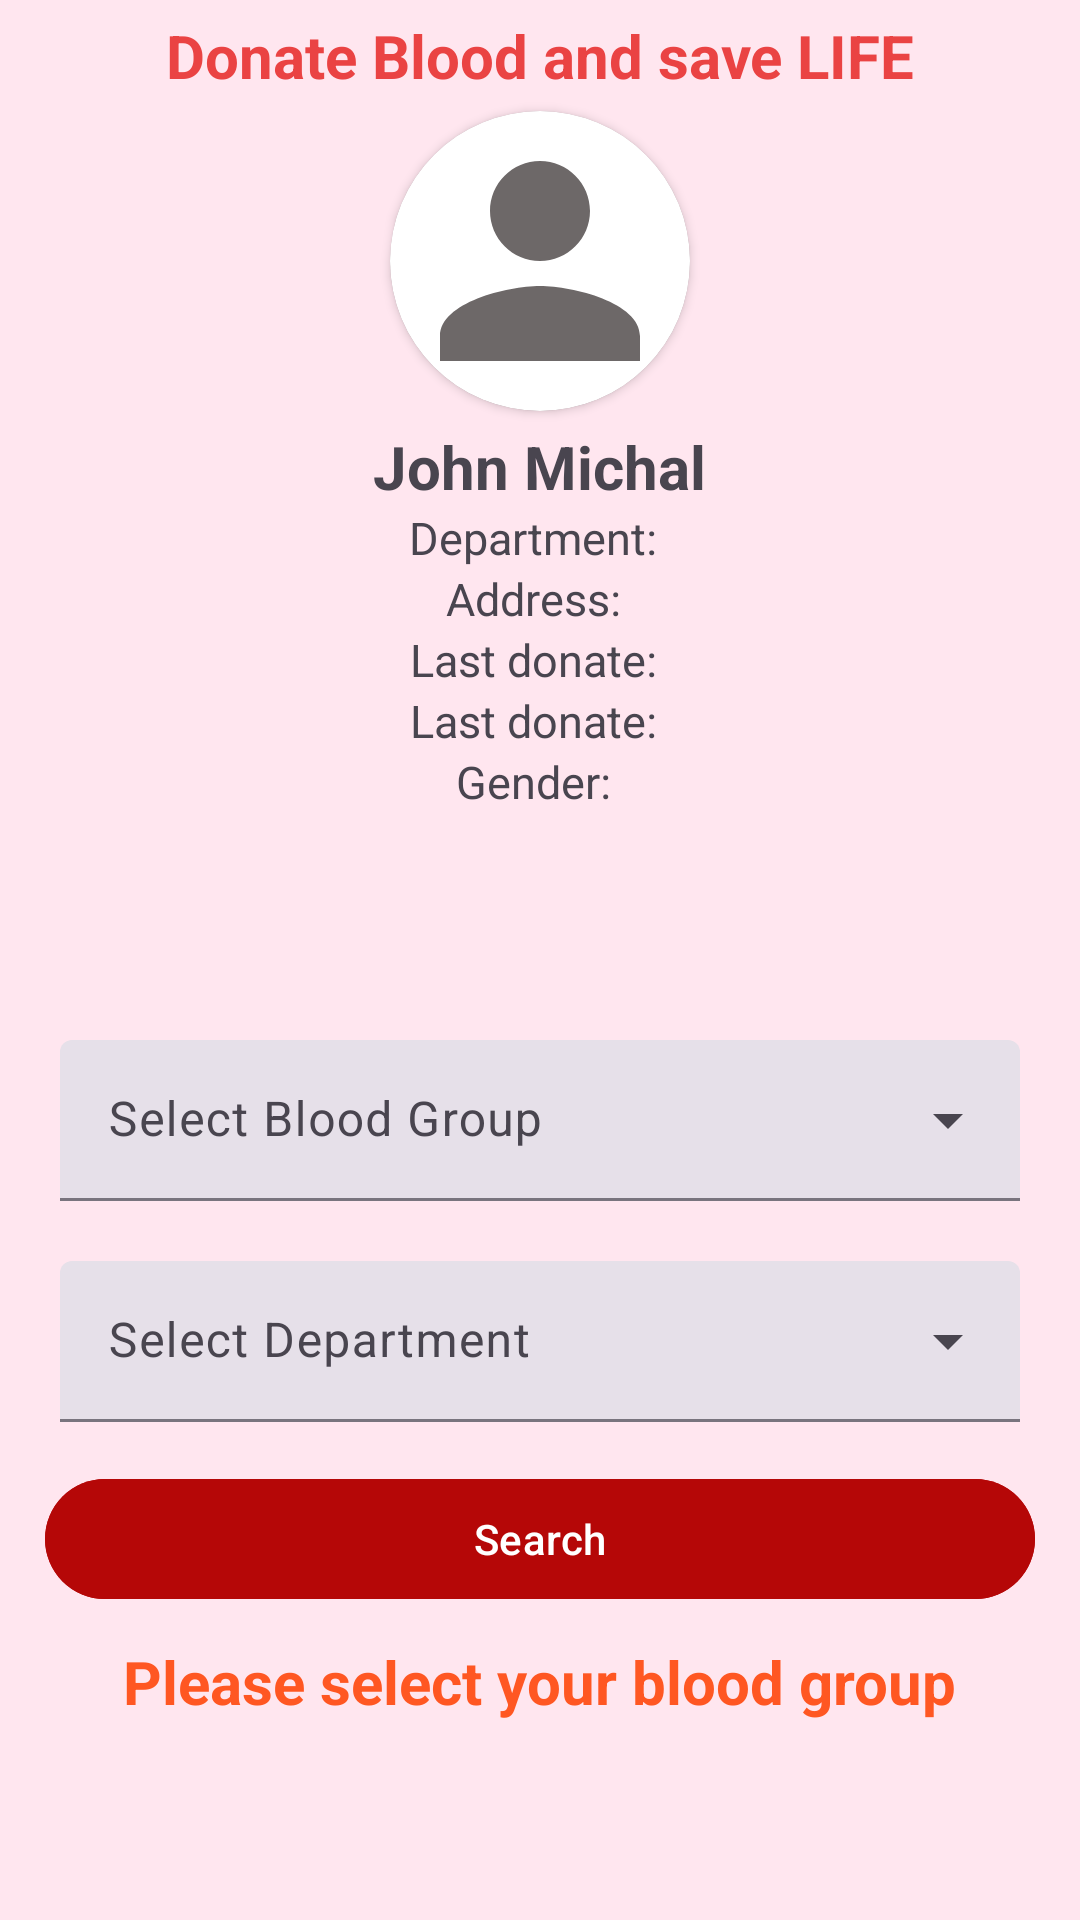

Icon bounding boxes for this 1080x1920 phone screenshot, format (x1, y1, x2, y2):
person: (390, 111, 690, 411)
